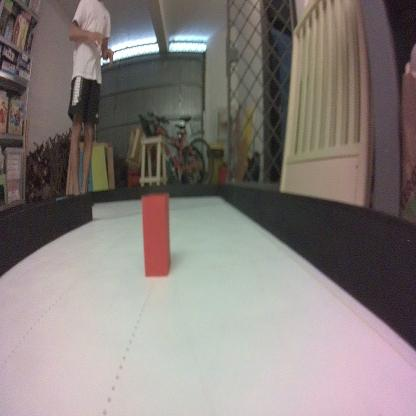red: (140, 192, 174, 278)
